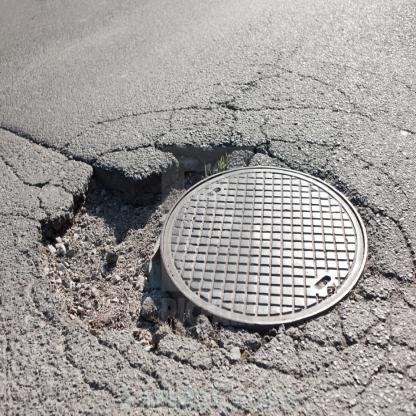open drainage-not overflowing-: (160, 167, 370, 327)
